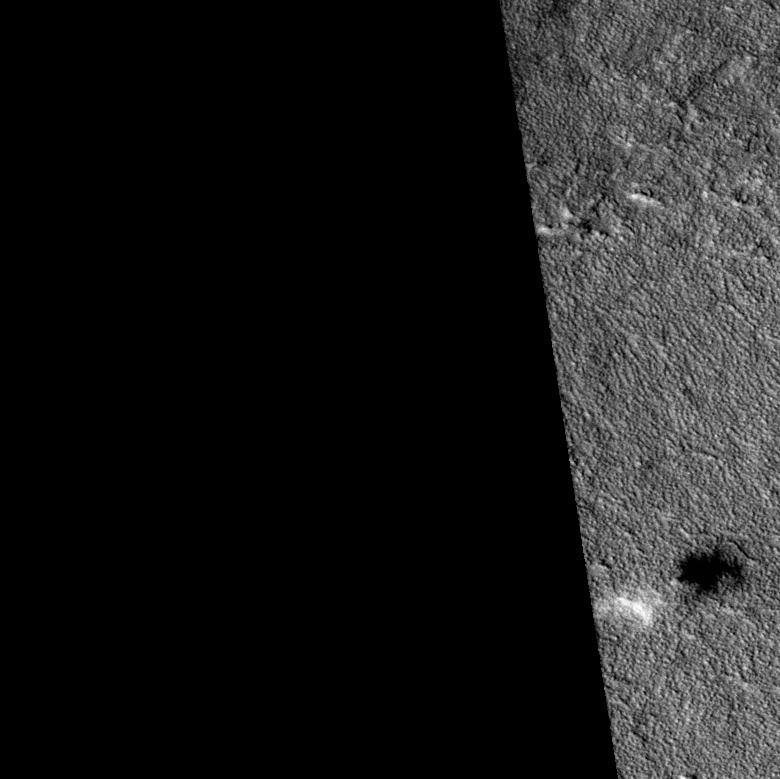dust_devil: (611, 546, 749, 632)
